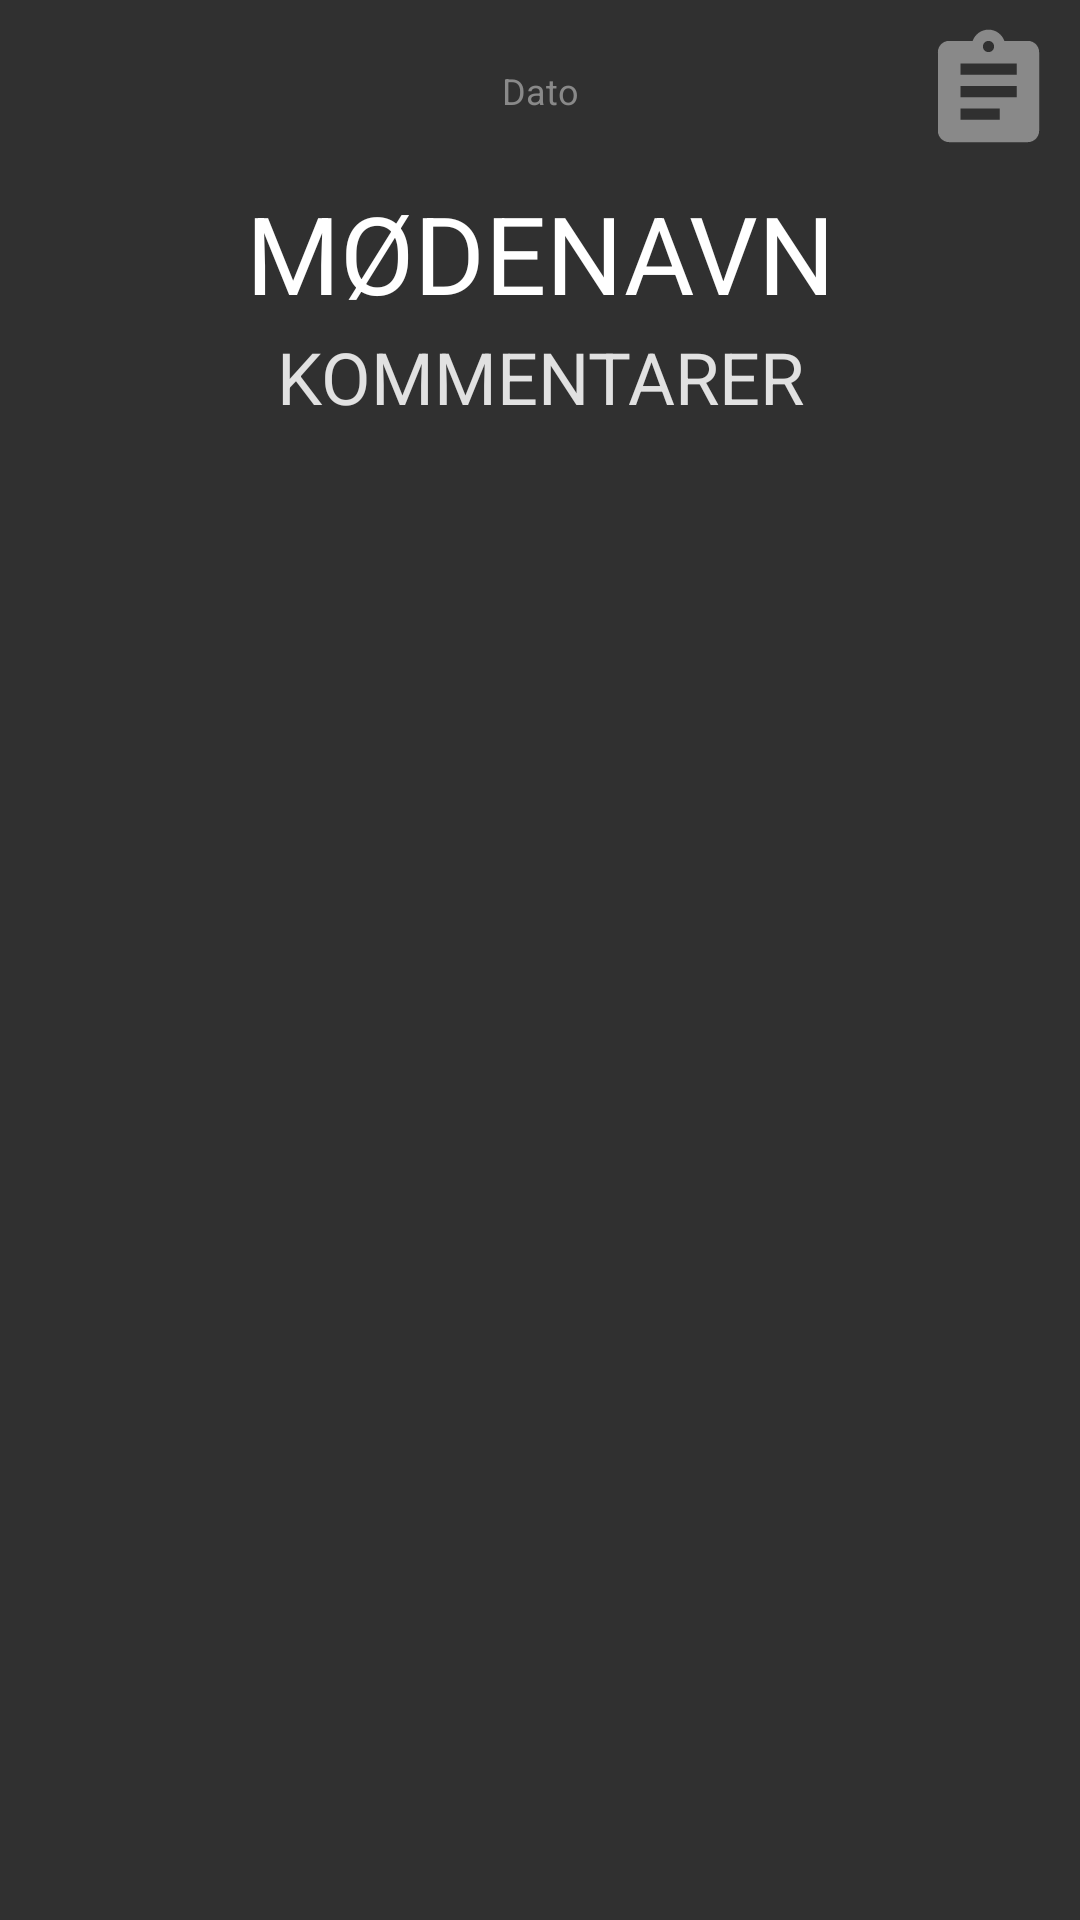

Screen size 1080*1920. Icon name, then its box in pixels as (x1, y1, x2, y2):
assignment: (938, 30, 1039, 142)
